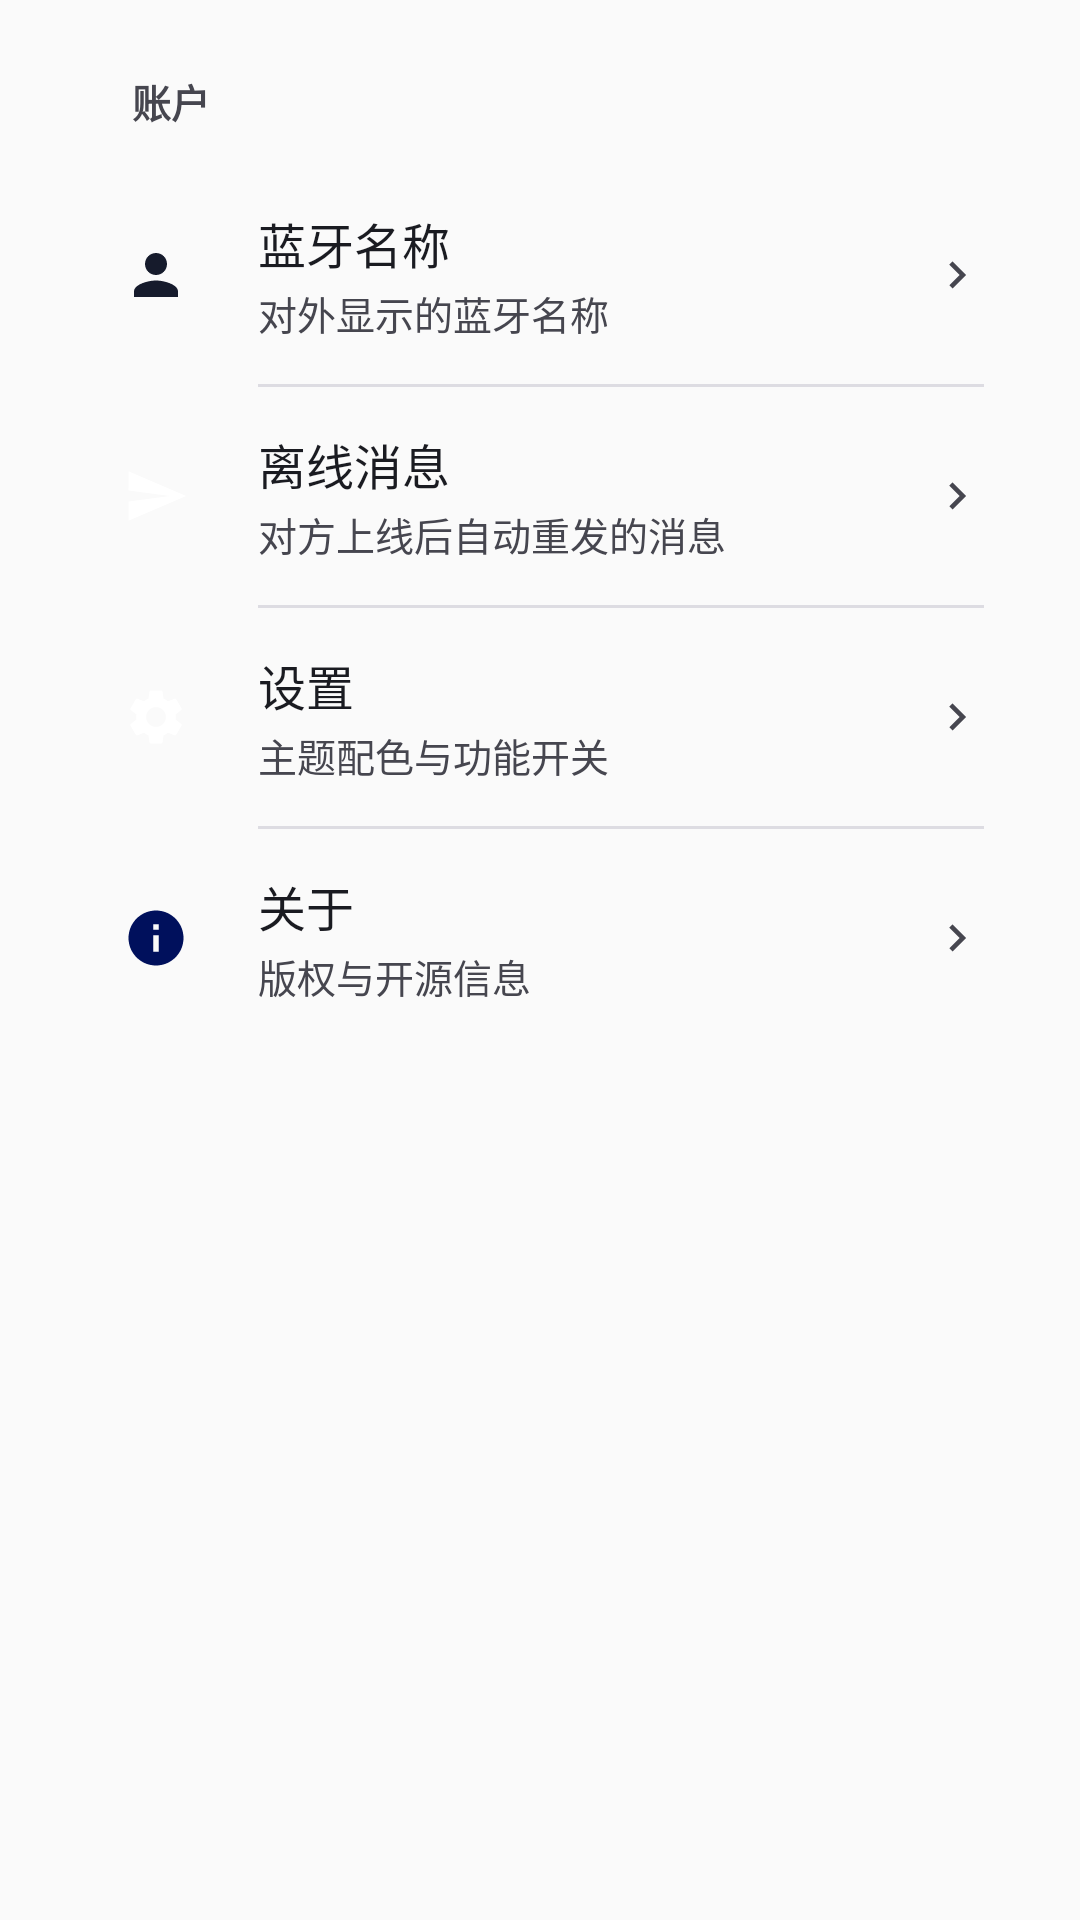

Where icons sit on this 1080px x 1920px app screen, as (x1, y1, x2, y2):
chevron right: (949, 261, 966, 289), (949, 482, 966, 510), (949, 703, 966, 731), (949, 924, 966, 952)
info: (128, 910, 184, 966)
person: (134, 253, 178, 297)
